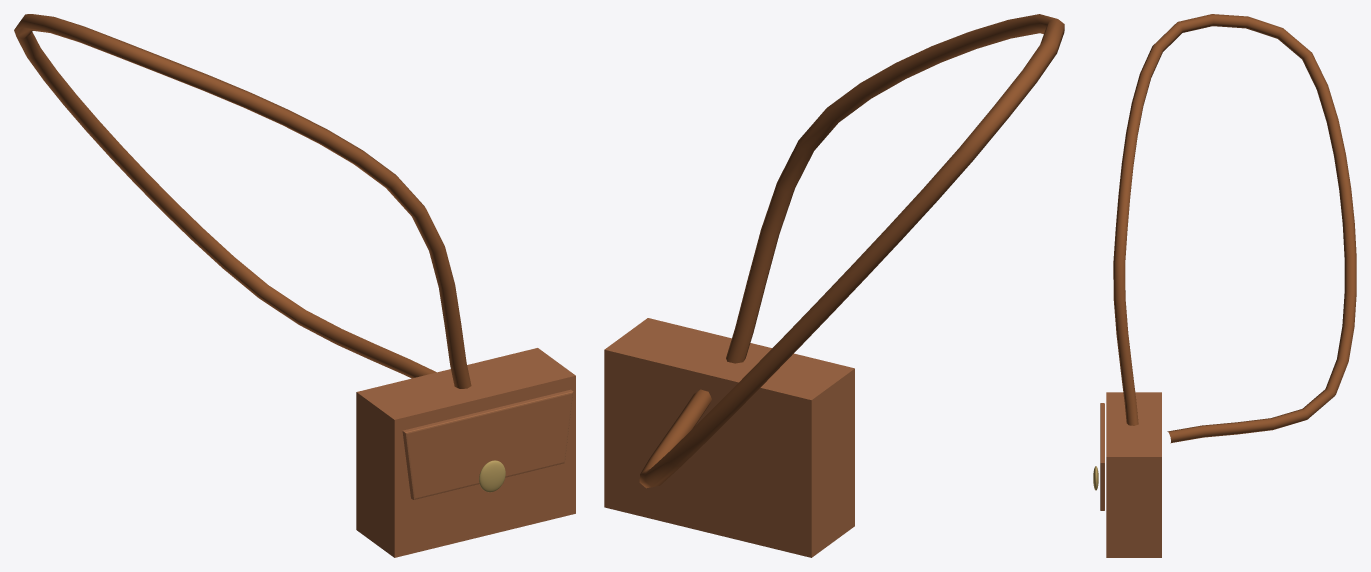
Rendered from sac-traversee-femme.glb.
The picture shows the model from 3 angles, left to right: view 1: azimuth 30°, elevation 25°; view 2: azimuth 150°, elevation 25°; view 3: azimuth 270°, elevation 25°; orthographic projection. The views are drawn at different scales.
Visible parts, largest first — view 1: edit-24; view 2: edit-24; view 3: edit-24.
Boxes of the visible parts, x1,y1,x2,y2 form: edit-24: (14, 14, 575, 557); edit-24: (604, 14, 1064, 557); edit-24: (1093, 14, 1356, 557).
Bounding box in the file's own units: 0.5289 × 0.6228 × 0.379.
